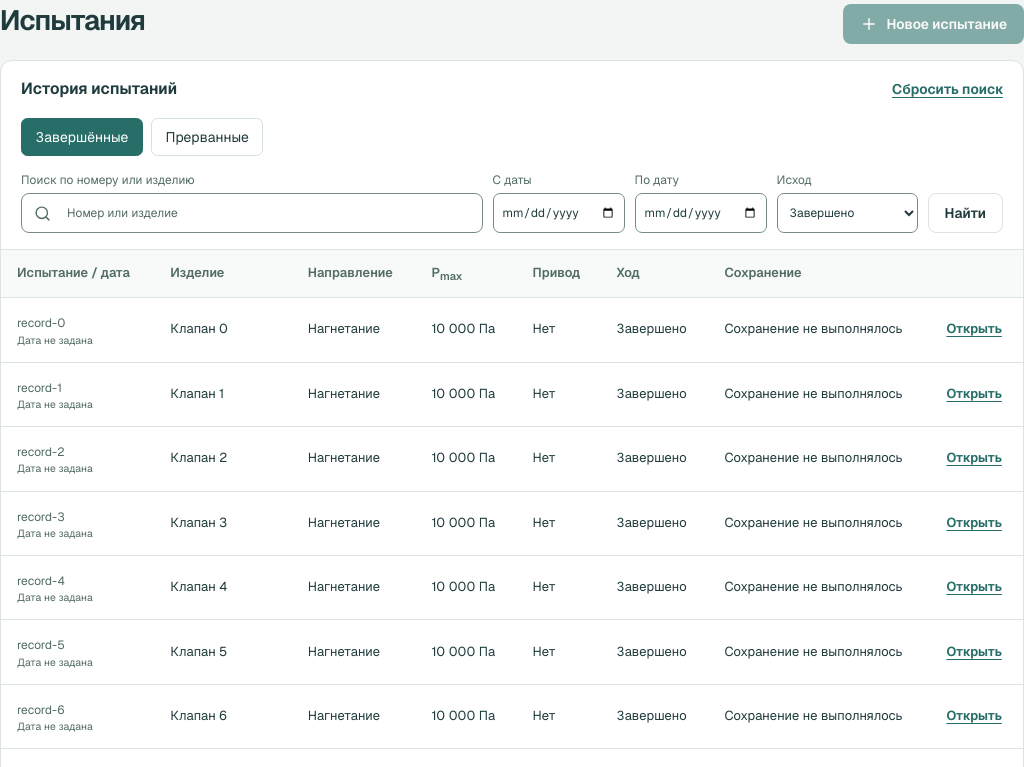
limits the prepared history page including the active record
Select "Все исходы" in the dropdown labelled "Исход" at (847, 213), box [777,193,918,233]
Click the button "Найти".
click(965, 213)  # box [928,193,1003,233]
(page scrolled)
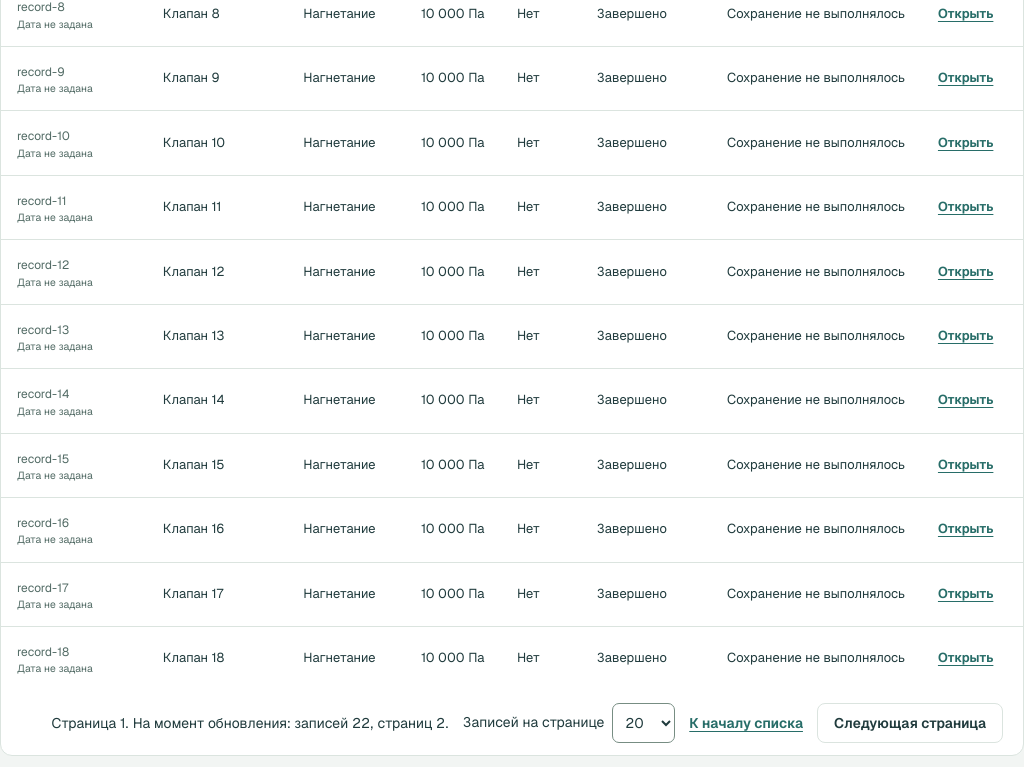
Now the text "Страница 1. На момент обновления: записей 22, страниц 2." is shown, box [52,712,449,733]
Click the button "Следующая страница".
click(910, 723)  # box [817,702,1003,743]
(page scrolled)
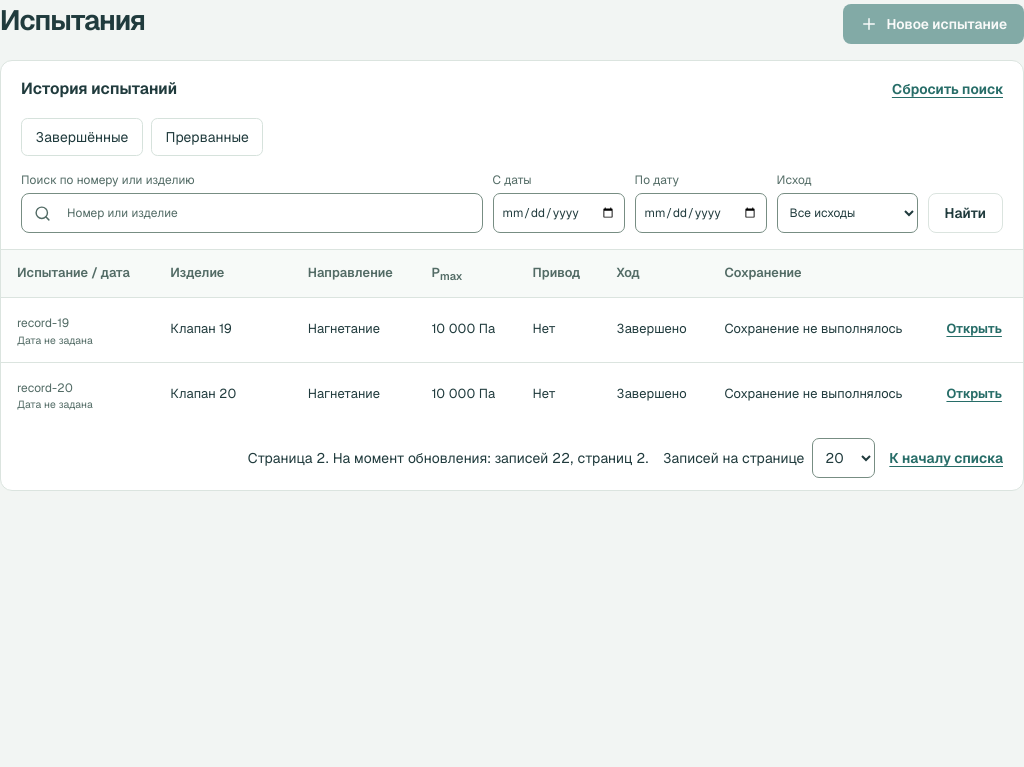
Now the number of rows is 3, box [1,250,1023,298]; [1,298,1023,362]; [1,362,1023,426]
Now the text "Страница 2. На момент обновления: записей 22, страниц 2." is shown, box [248,448,649,468]
Select "10" in the dropdown labelled "Записей на странице" at (844, 458), box [812,438,875,478]
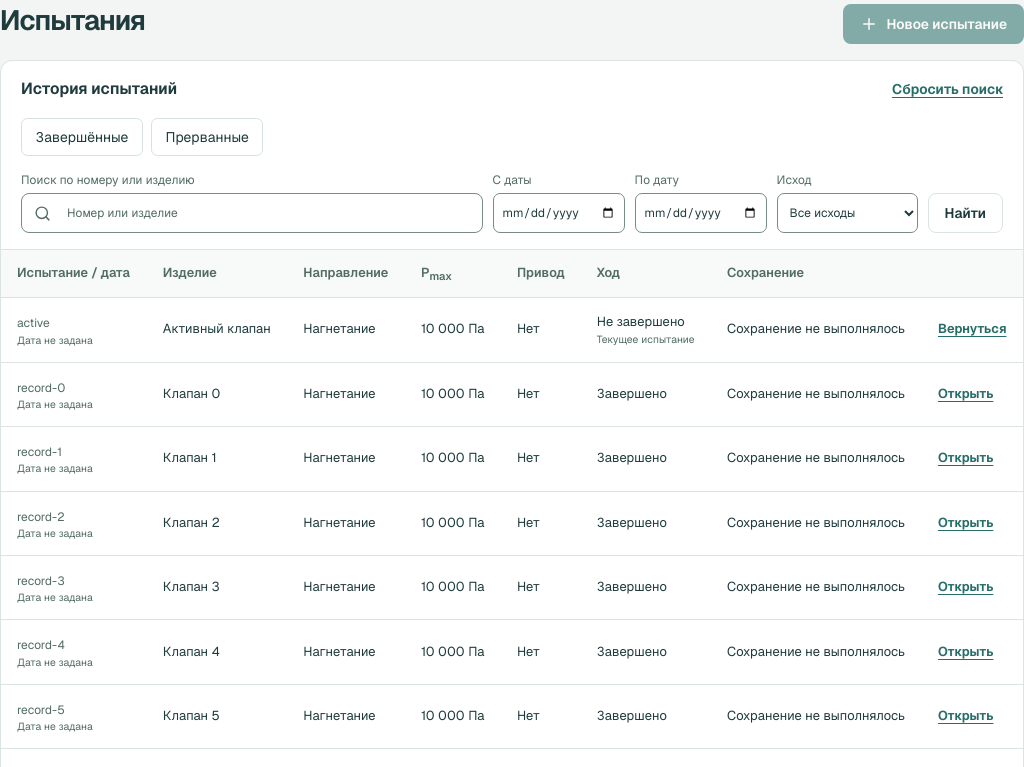
Now the number of rows is 11
Now the button "Вернуться" is shown, box [938,316,1006,343]
Type "2026-11-10" into the date field labelled "С даты".
click(559, 213); type("2026-11-10")  # box [493,193,625,233]
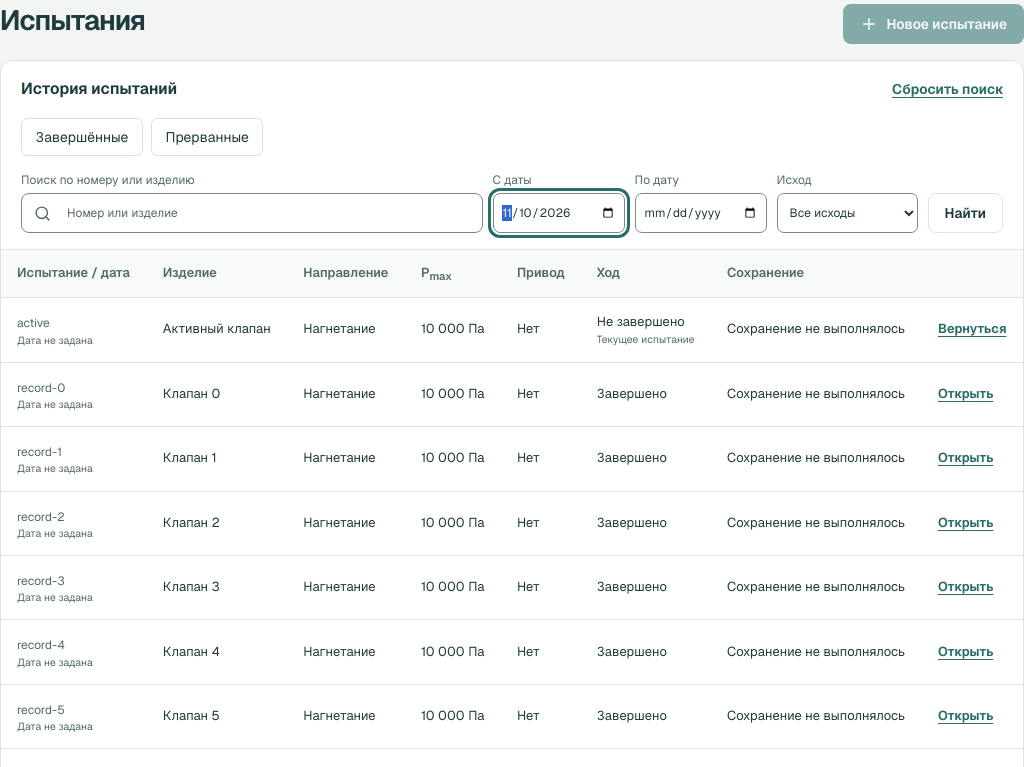
Type "2026-11-05" into the date field labelled "По дату".
click(701, 213); type("2026-11-05")  # box [635,193,767,233]
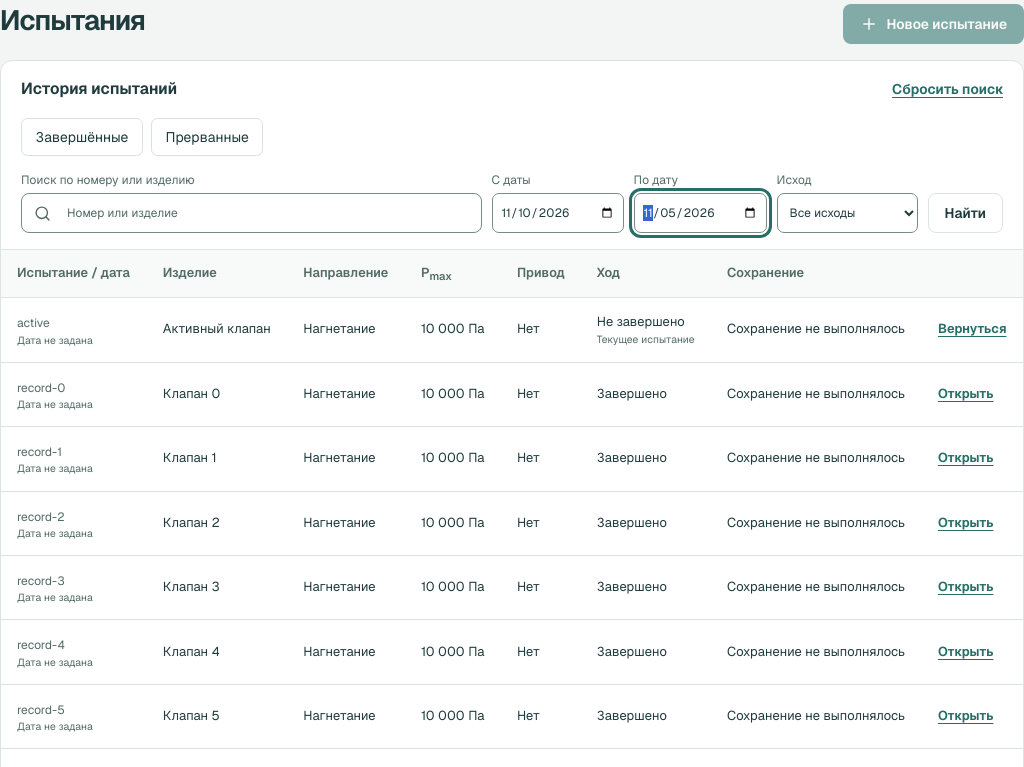
Click the button "Найти".
click(965, 213)  # box [928,193,1003,233]
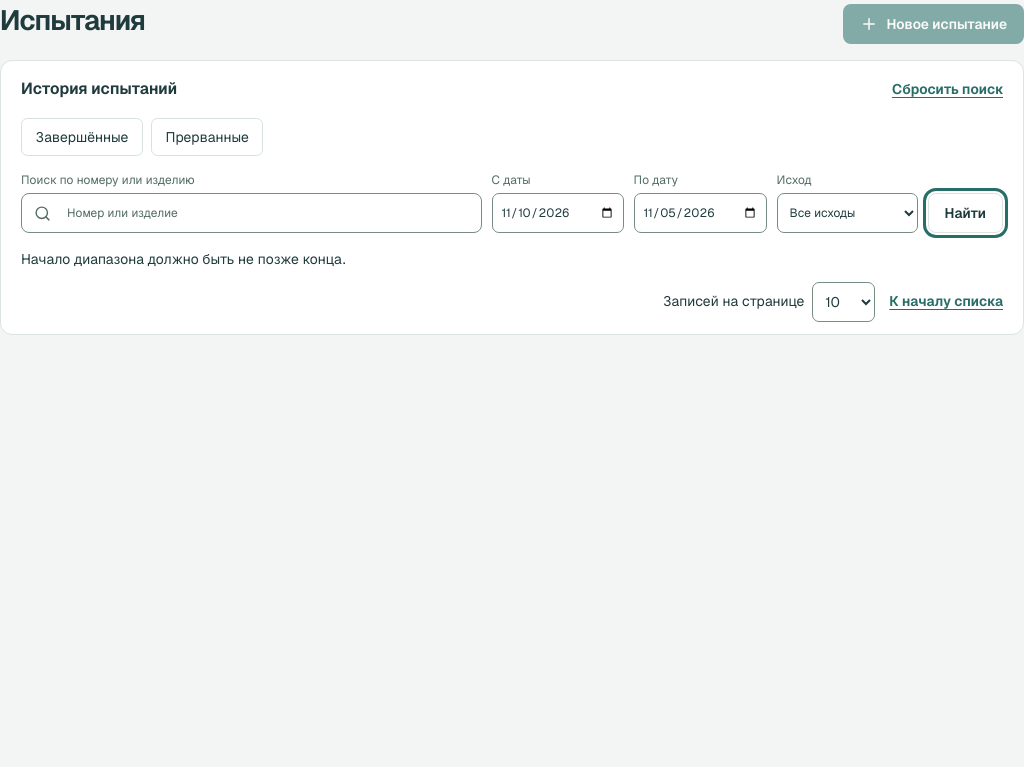
Expected: the button "Следующая страница" is not shown
Now the message shows "Начало диапазона", box [21,250,346,268]
